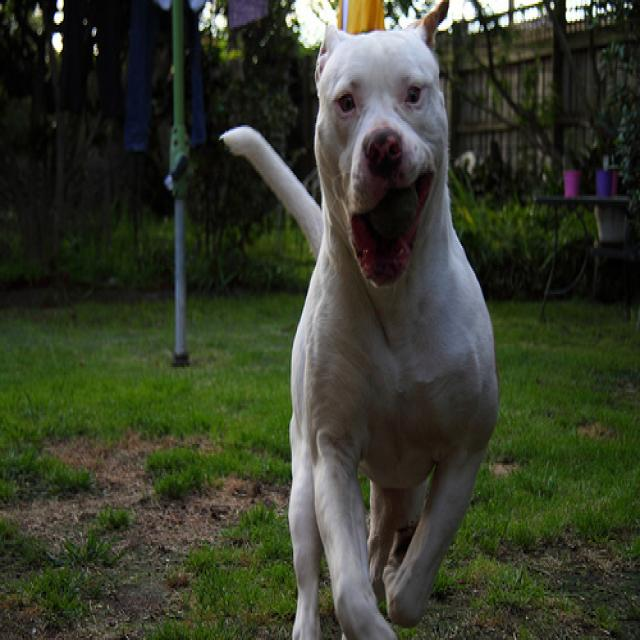dog-american_bulldog: (207, 2, 503, 636)
